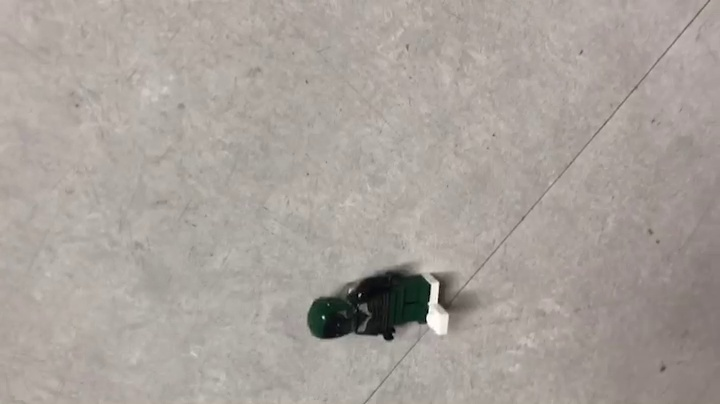people: (307, 269, 451, 343)
